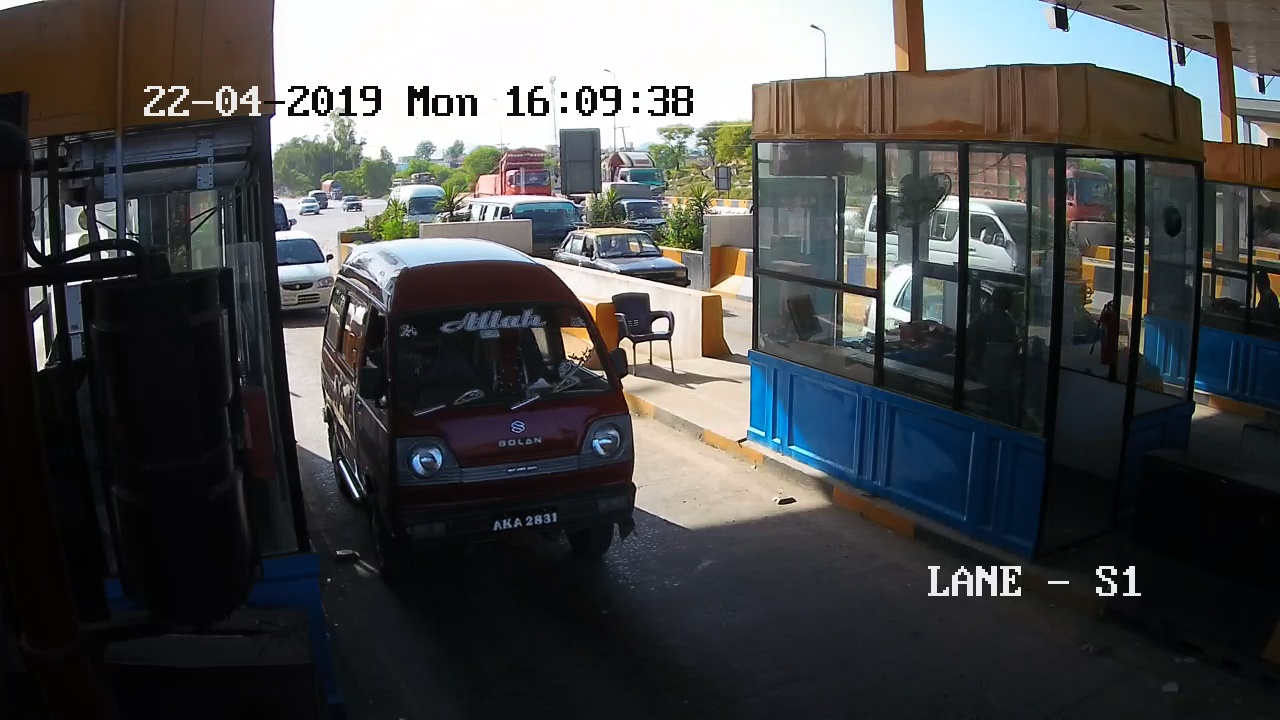Number Plate (Car): (486, 508, 563, 533)
